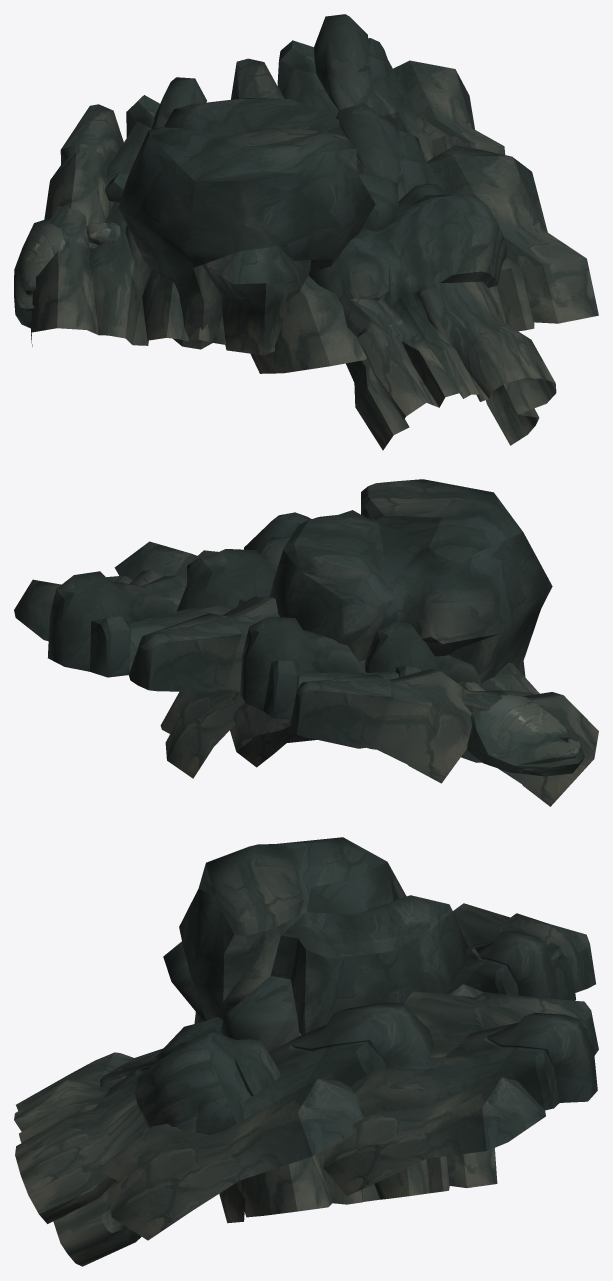
File: Rocks.fbx
The picture shows the model from 3 angles, top to bottom: view 1: azimuth 30°, elevation 25°; view 2: azimuth 150°, elevation 25°; view 3: azimuth 270°, elevation 25°; orthographic projection. The views are drawn at different scales.
Visible parts, largest first — view 1: Rock2, Rock1; view 2: Rock2, Rock1; view 3: Rock2, Rock1.
Part boxes in pixels (box(x1,y1,x2,y2)): Rock2: box(14, 14, 598, 450); Rock1: box(118, 98, 398, 355); Rock2: box(14, 512, 598, 806); Rock1: box(160, 479, 552, 778); Rock2: box(14, 903, 598, 1266); Rock1: box(163, 837, 497, 1223).
Size of the model in its own units: 261 by 143 by 243.
